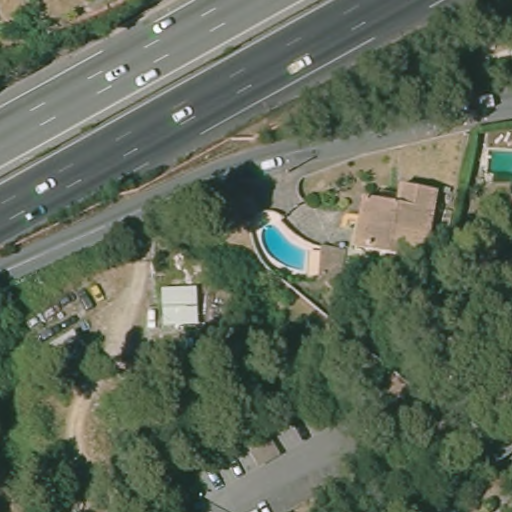pool: (248, 211, 325, 280), (480, 144, 512, 188)
